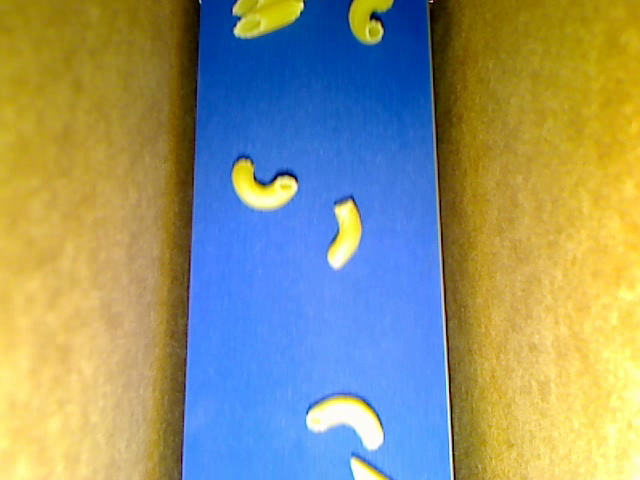elbow: (306, 393, 385, 449), (231, 157, 299, 211), (326, 200, 360, 270), (350, 1, 393, 45)
penne: (233, 1, 304, 39), (349, 455, 391, 479), (232, 1, 284, 17)
